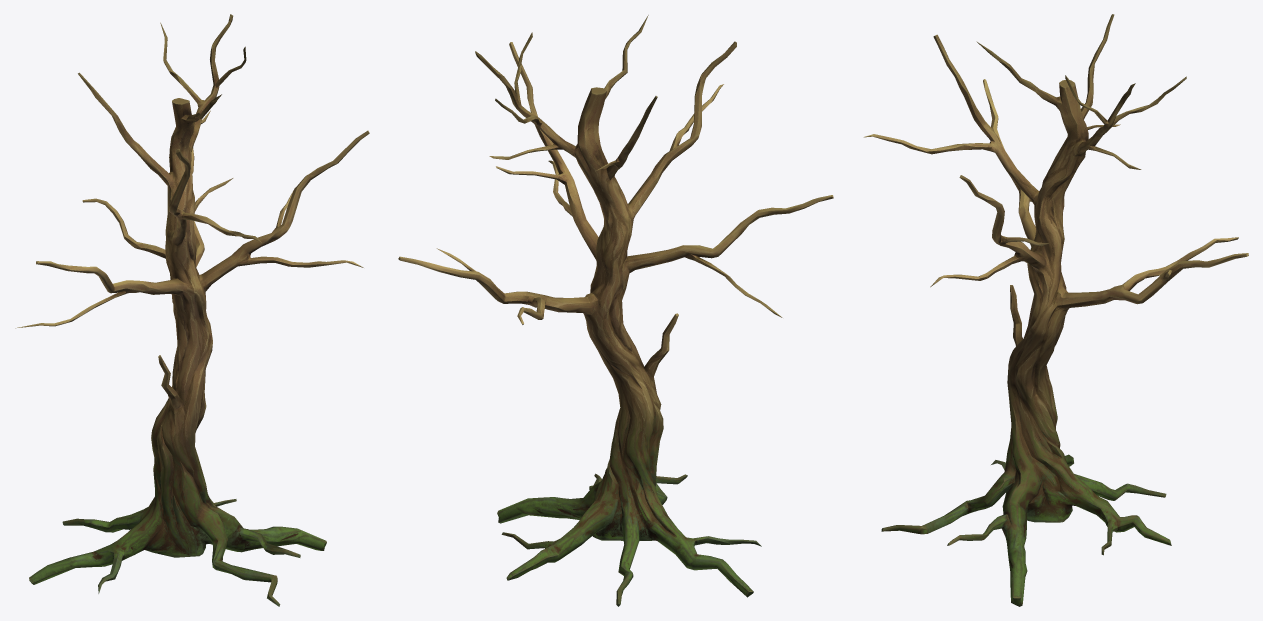
The model's file is TraditionalKoreanHouse_TreeA01.fbx.
3 views of the same model, side by side, from view 1: azimuth 30°, elevation 25°; view 2: azimuth 150°, elevation 25°; view 3: azimuth 270°, elevation 25° (orthographic). The views are drawn at different scales.
Parts seen in each view (by area): view 1: TraditionalKoreanHouse_TreeA01; view 2: TraditionalKoreanHouse_TreeA01; view 3: TraditionalKoreanHouse_TreeA01.
Boxes of the visible parts, x1=… form: TraditionalKoreanHouse_TreeA01: x1=15, y1=14, x2=369, y2=606; TraditionalKoreanHouse_TreeA01: x1=398, y1=15, x2=833, y2=606; TraditionalKoreanHouse_TreeA01: x1=863, y1=14, x2=1248, y2=606.
Size of the model in its own units: 501 by 747 by 516.
